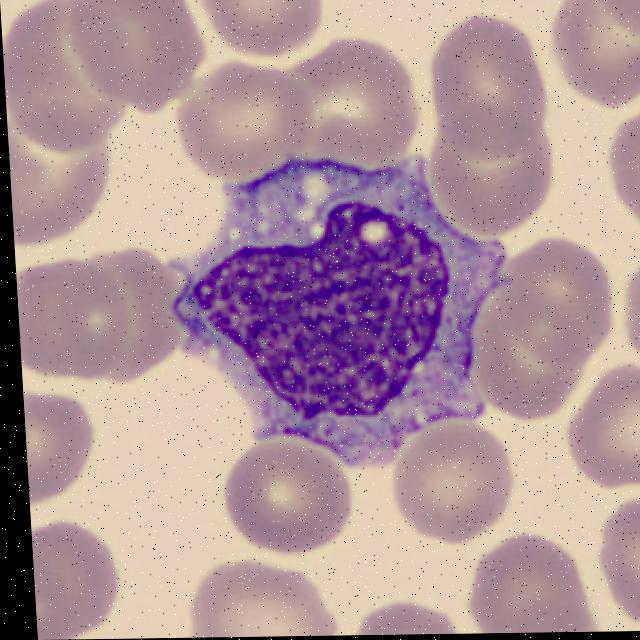monocyte: (165, 154, 519, 474)
rbc: (0, 0, 131, 152), (59, 0, 211, 108), (429, 124, 561, 247), (181, 57, 315, 178), (474, 295, 595, 427), (280, 48, 413, 164), (79, 253, 199, 381), (6, 95, 106, 241), (435, 21, 547, 148), (230, 444, 355, 553), (16, 267, 124, 392), (504, 252, 610, 374), (399, 429, 508, 538), (467, 539, 590, 634), (187, 563, 340, 638), (31, 527, 122, 640), (552, 0, 640, 108), (23, 392, 100, 510), (575, 373, 640, 487), (199, 0, 333, 53), (607, 500, 640, 623), (354, 602, 459, 635), (615, 118, 640, 231), (625, 259, 640, 363)
